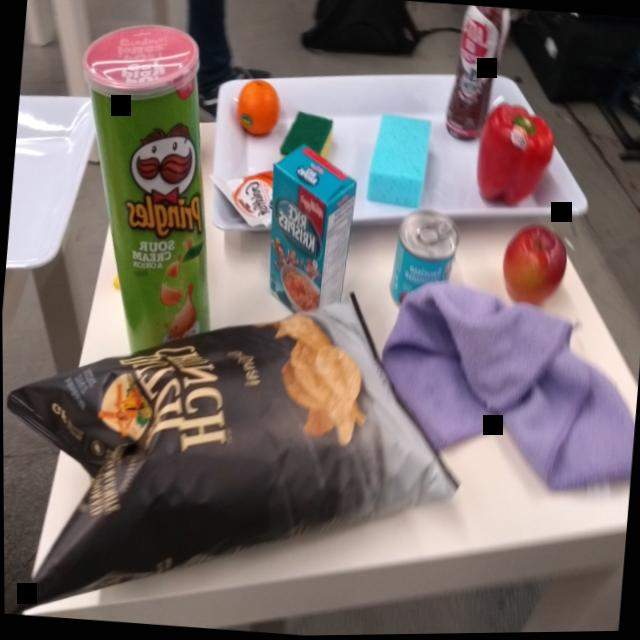apple: (496, 219, 572, 314)
cereal: (256, 140, 361, 327)
orange: (233, 76, 282, 140)
paprika: (469, 96, 560, 217)
potato_chips: (2, 255, 481, 640)
pringles: (52, 11, 243, 367)
scrubby: (277, 106, 336, 165)
sponge_opl: (361, 108, 436, 215)
